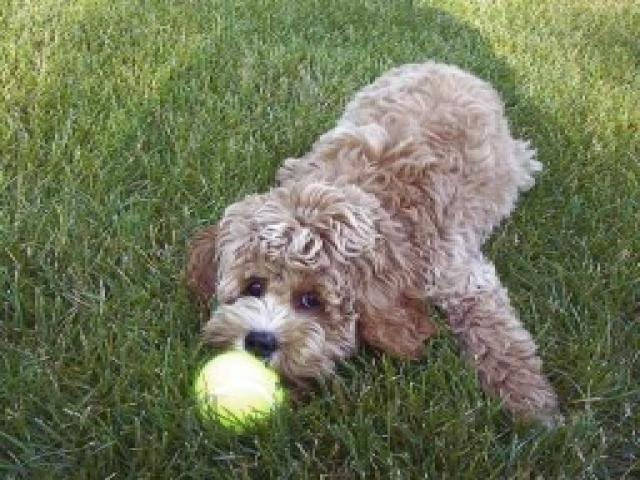tennis-ball: (192, 350, 282, 435)
